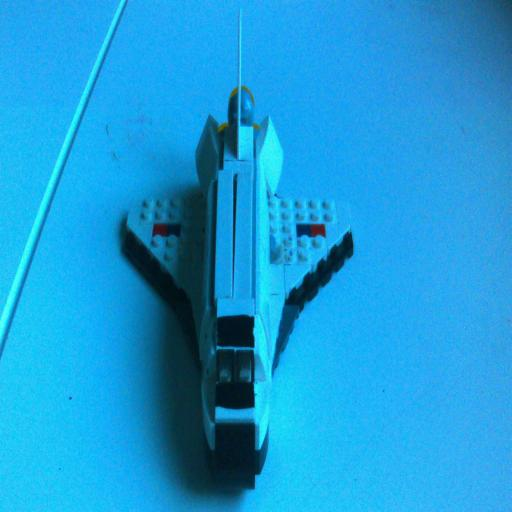defect_colour: (217, 316, 256, 351), (215, 385, 258, 411)
